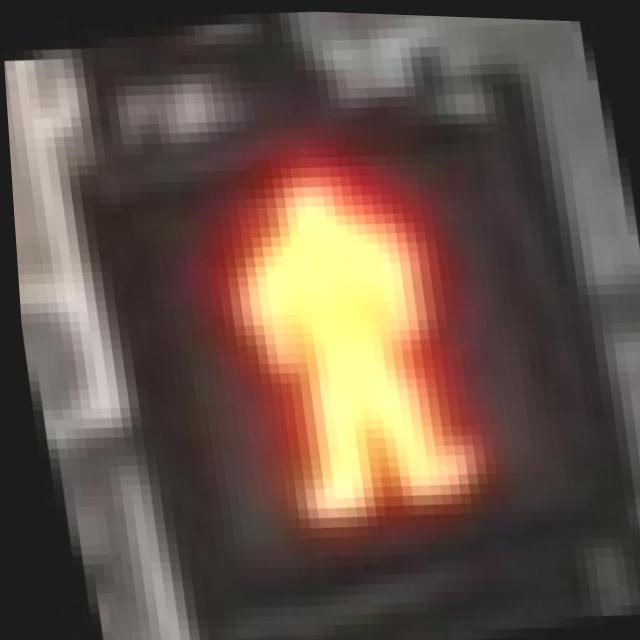red_light: (54, 54, 587, 576)
